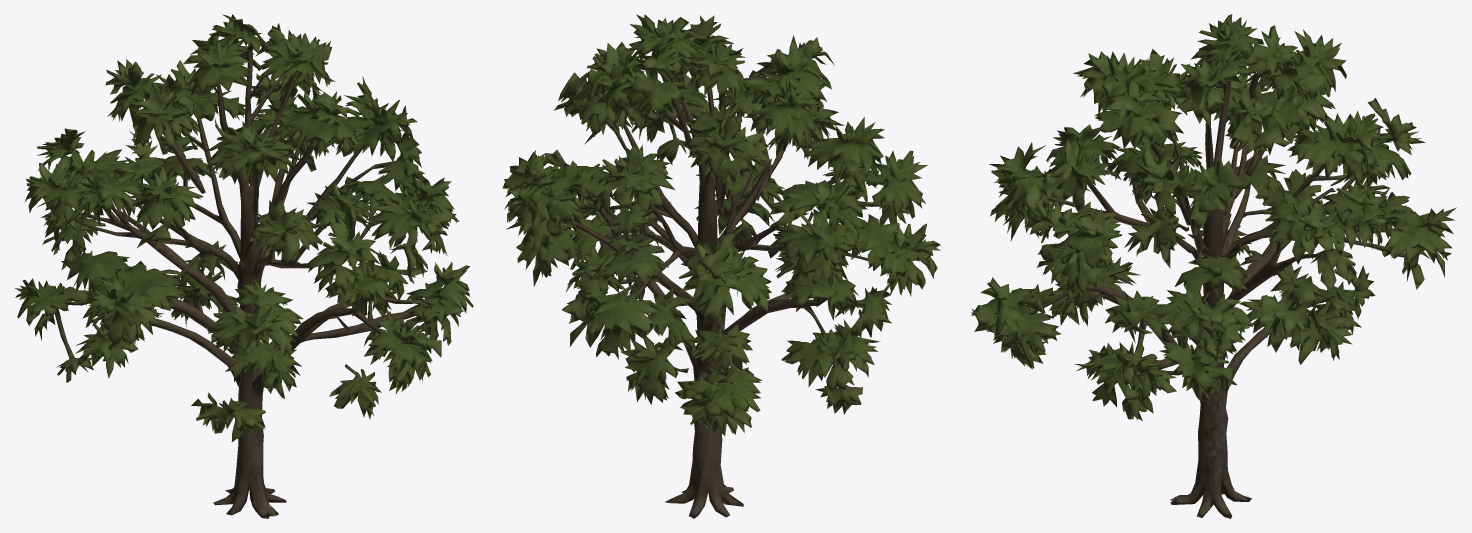
The model's file is tree-broad-canopy-a.glb.
3 renders of one model, left to right at view 1: azimuth 30°, elevation 25°; view 2: azimuth 150°, elevation 25°; view 3: azimuth 270°, elevation 25°, orthographic. The views are drawn at different scales.
Visible parts, largest first — view 1: tripo_node_7eb5583d-ac52-4686-80ff-9c8871d899b6; view 2: tripo_node_7eb5583d-ac52-4686-80ff-9c8871d899b6; view 3: tripo_node_7eb5583d-ac52-4686-80ff-9c8871d899b6.
Part boxes in pixels (x1=…): tripo_node_7eb5583d-ac52-4686-80ff-9c8871d899b6: x1=15, y1=14, x2=473, y2=518; tripo_node_7eb5583d-ac52-4686-80ff-9c8871d899b6: x1=502, y1=14, x2=940, y2=518; tripo_node_7eb5583d-ac52-4686-80ff-9c8871d899b6: x1=971, y1=14, x2=1456, y2=518.
Bounding box in the file's own units: 4.34 × 5 × 4.61.
Materials: 1 (1 with a texture image).
